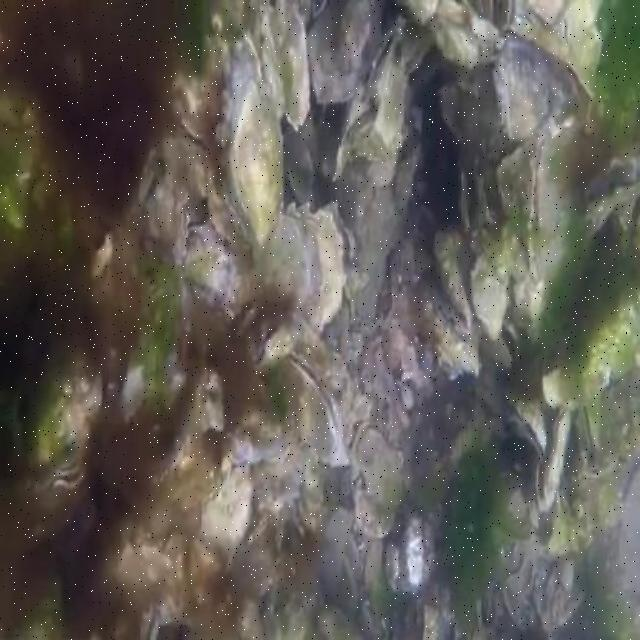Oyster-Closed: (10, 348, 104, 495), (224, 79, 284, 250), (346, 415, 405, 547), (309, 0, 383, 105), (286, 201, 345, 330), (419, 267, 488, 371), (494, 34, 550, 137), (257, 215, 312, 315), (433, 223, 475, 326), (544, 349, 615, 408), (144, 179, 190, 265), (471, 251, 508, 338), (367, 22, 406, 98), (337, 0, 372, 72), (392, 0, 441, 25), (473, 173, 491, 234), (467, 18, 497, 44), (248, 514, 273, 543)
Oyster-Open: (528, 113, 582, 280), (278, 351, 340, 464), (530, 398, 578, 512), (587, 158, 638, 232), (502, 390, 551, 461), (480, 318, 521, 373), (250, 322, 296, 371), (577, 390, 601, 451), (172, 118, 204, 152)
